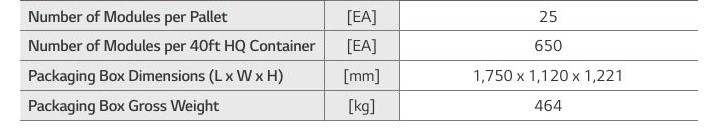table: (5, 1, 710, 126)
table column: (404, 2, 702, 125), (22, 2, 321, 123), (329, 2, 396, 123)
table row: (12, 63, 707, 87), (12, 93, 707, 117), (14, 4, 705, 27), (13, 35, 706, 57)
